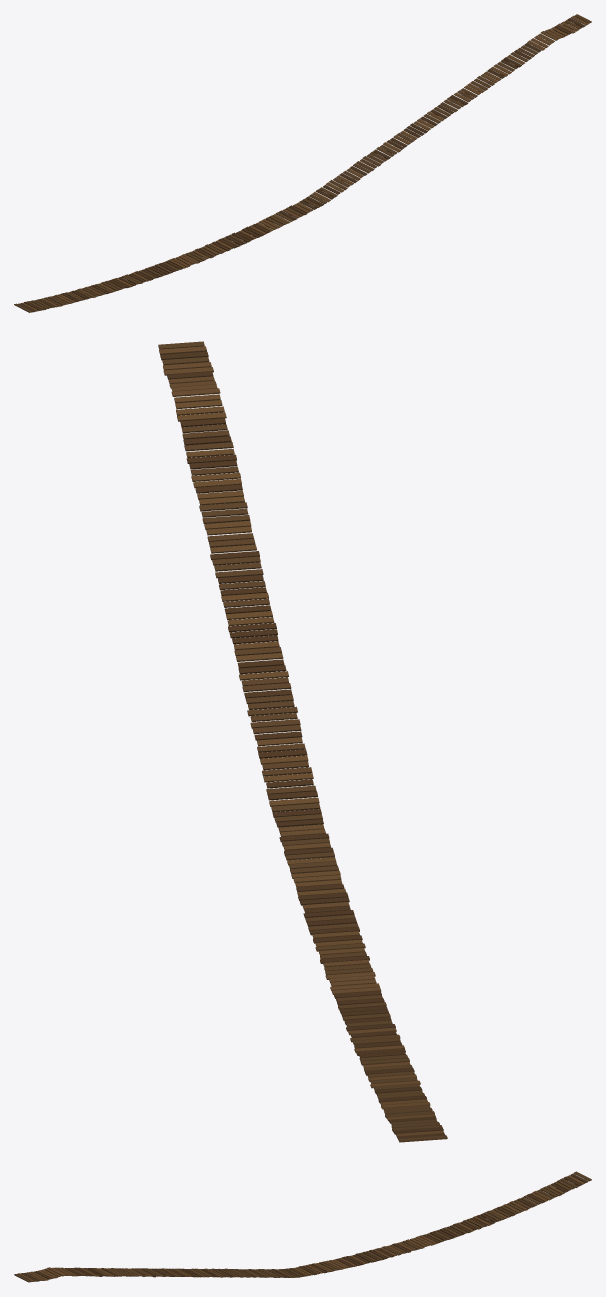
File: SM_Bridge_07_08.fbx
3 views of the same model, one above another, from view 1: azimuth 90°, elevation 25°; view 2: azimuth 150°, elevation 25°; view 3: azimuth 270°, elevation 25° (orthographic). The views are drawn at different scales.
Parts seen in each view (by area): view 1: SM_Bridge_07_08; view 2: SM_Bridge_07_08; view 3: SM_Bridge_07_08.
Boxes of the visible parts, x1,y1,x2,y2 form: SM_Bridge_07_08: (14, 14, 591, 312); SM_Bridge_07_08: (158, 341, 447, 1142); SM_Bridge_07_08: (14, 1171, 591, 1282).
Bounding box in the file's own units: 46.26 × 11.07 × 55.31.
